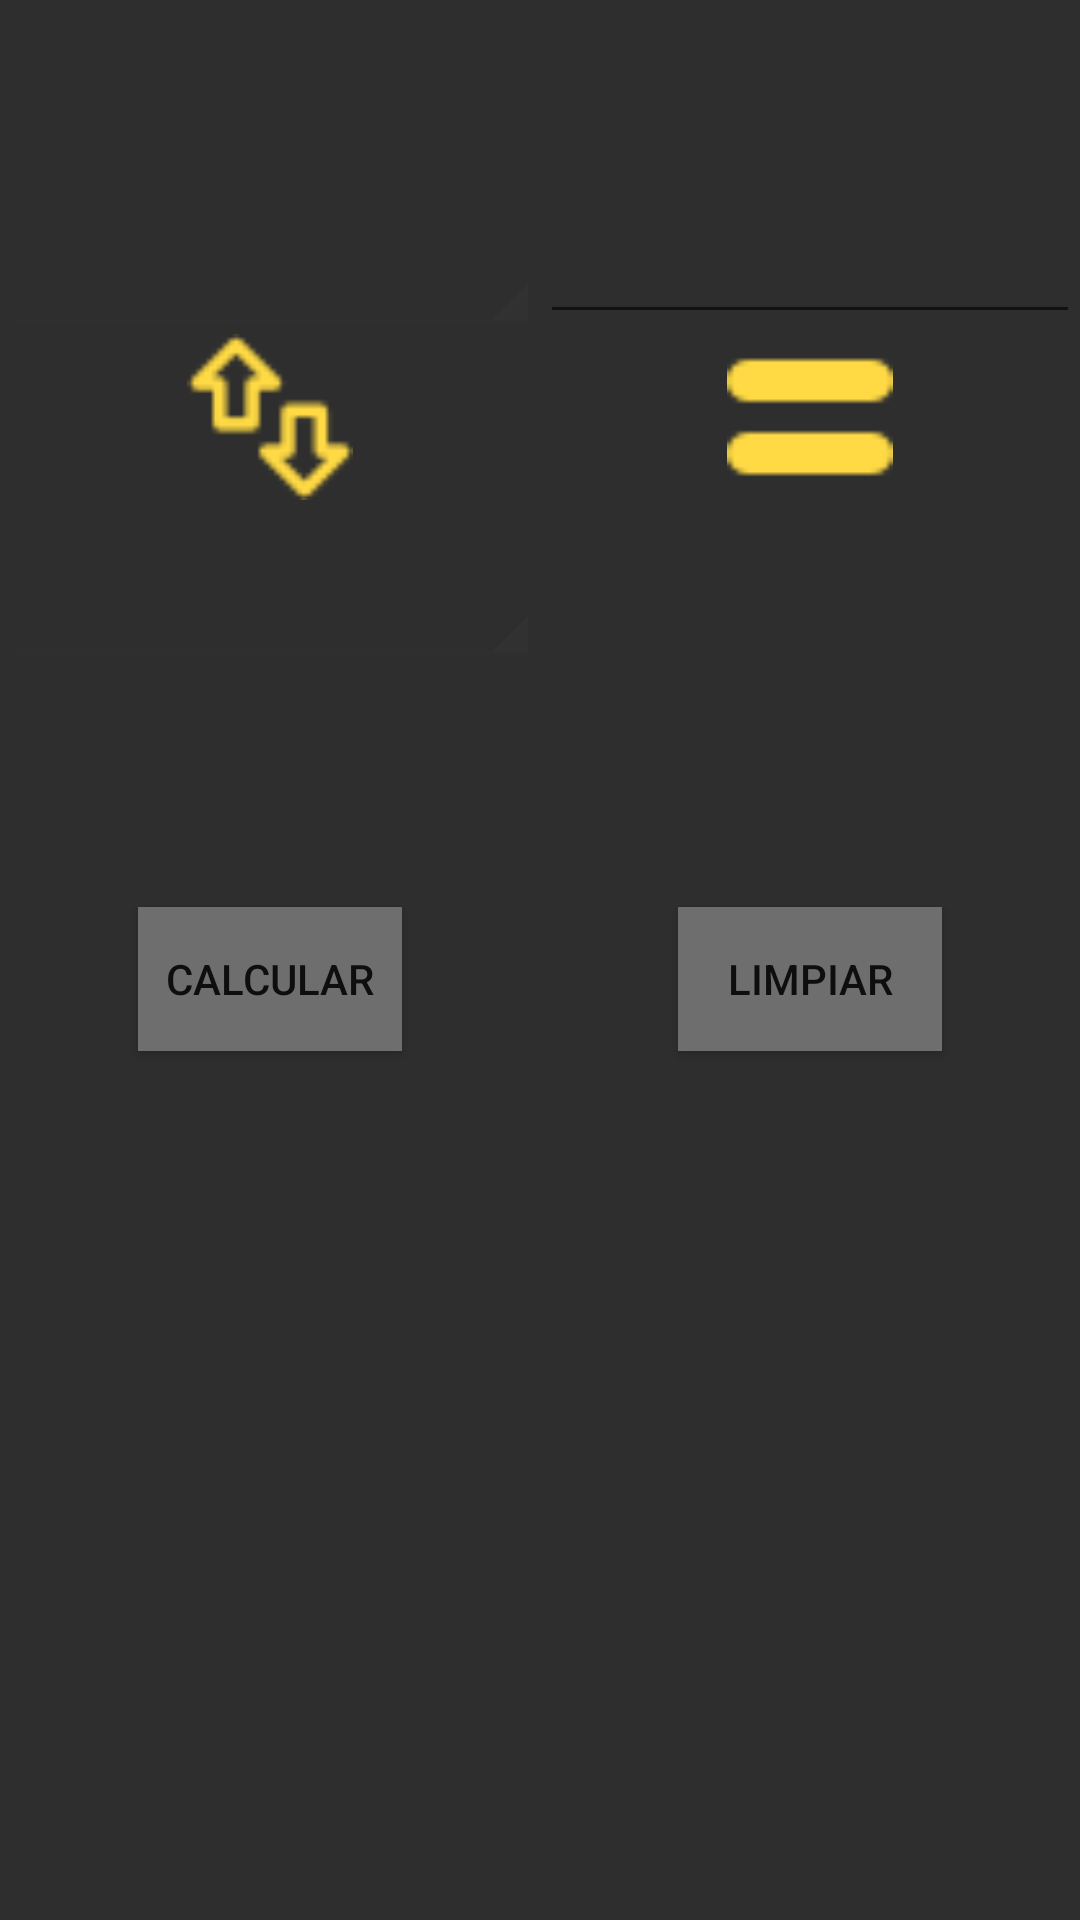

Named icons in this screenshot (1080×1920) and their centers, [x,y]:
equal: [810,417]
sort: [270,417]
